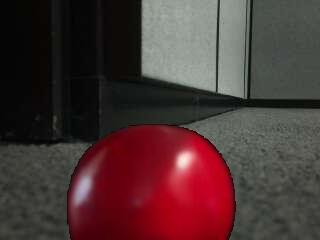Tomato: (67, 124, 237, 240)
